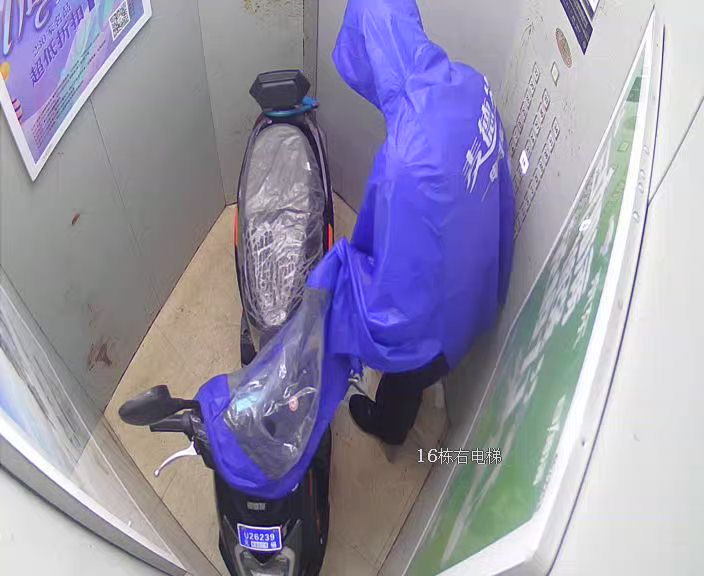Electric-bicycle: (118, 69, 356, 576)
